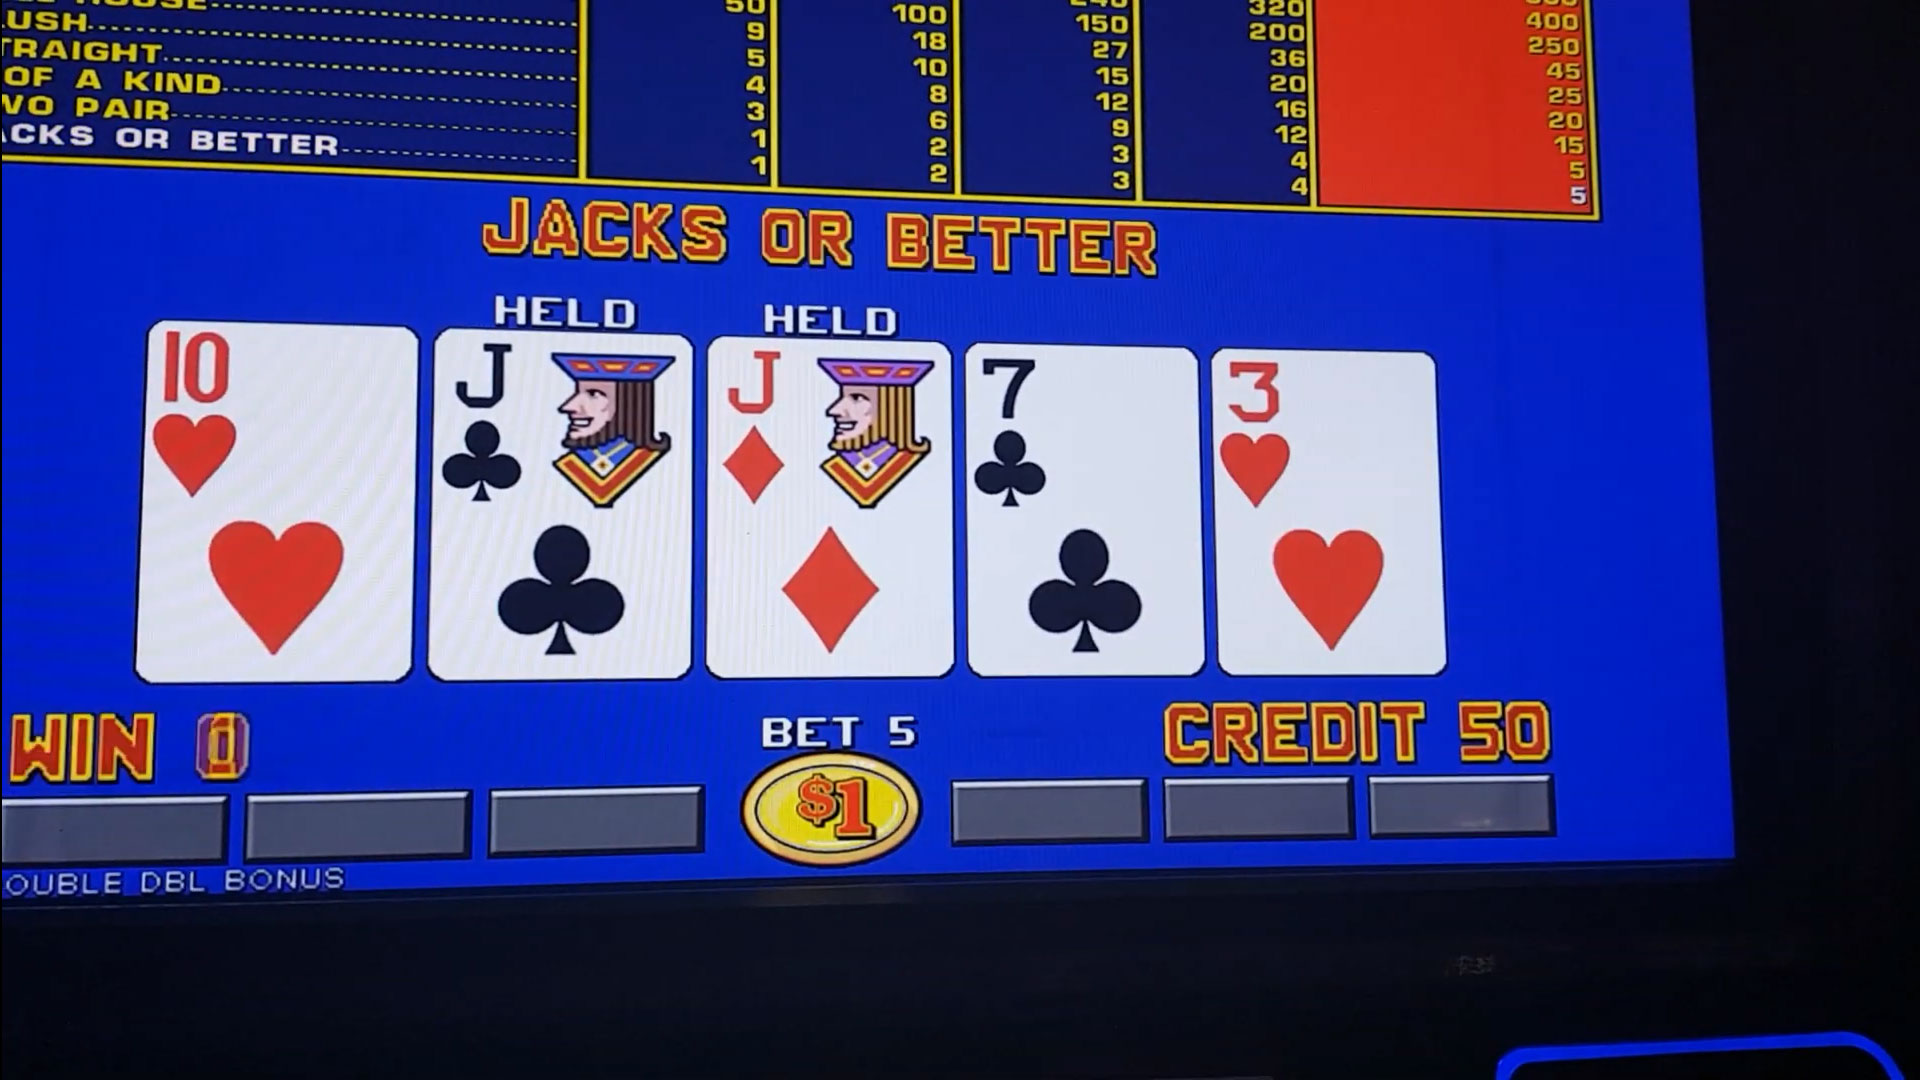C7: (972, 349, 1191, 512)
CJ: (440, 339, 684, 512)
DJ: (709, 345, 944, 516)
H3: (1218, 356, 1429, 514)
HT: (158, 334, 407, 496)
